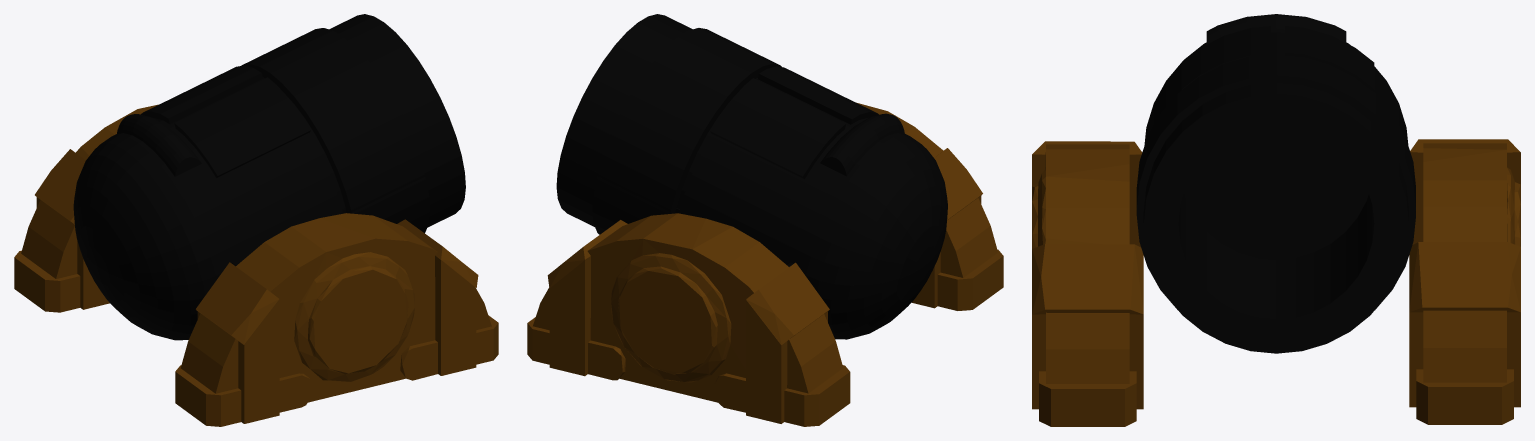
The model's file is Mortero.fbx.
The picture shows the model from 3 angles, left to right: view 1: azimuth 30°, elevation 25°; view 2: azimuth 150°, elevation 25°; view 3: azimuth 270°, elevation 25°; orthographic projection. The views are drawn at different scales.
Visible parts, largest first — view 1: Mortar.002, Mortar.001, Mortar.003; view 2: Mortar.002, Mortar.003, Mortar.001; view 3: Mortar.002, Mortar.003, Mortar.001.
Part boxes in pixels (x1=…): Mortar.002: x1=73, y1=14, x2=465, y2=340; Mortar.001: x1=175, y1=213, x2=498, y2=426; Mortar.003: x1=14, y1=104, x2=158, y2=312; Mortar.002: x1=556, y1=14, x2=947, y2=339; Mortar.003: x1=527, y1=213, x2=850, y2=426; Mortar.001: x1=856, y1=102, x2=1003, y2=310; Mortar.002: x1=1136, y1=14, x2=1415, y2=353; Mortar.003: x1=1409, y1=139, x2=1520, y2=424; Mortar.001: x1=1032, y1=141, x2=1143, y2=426.
Size of the model in its own units: 408 by 313 by 431.
